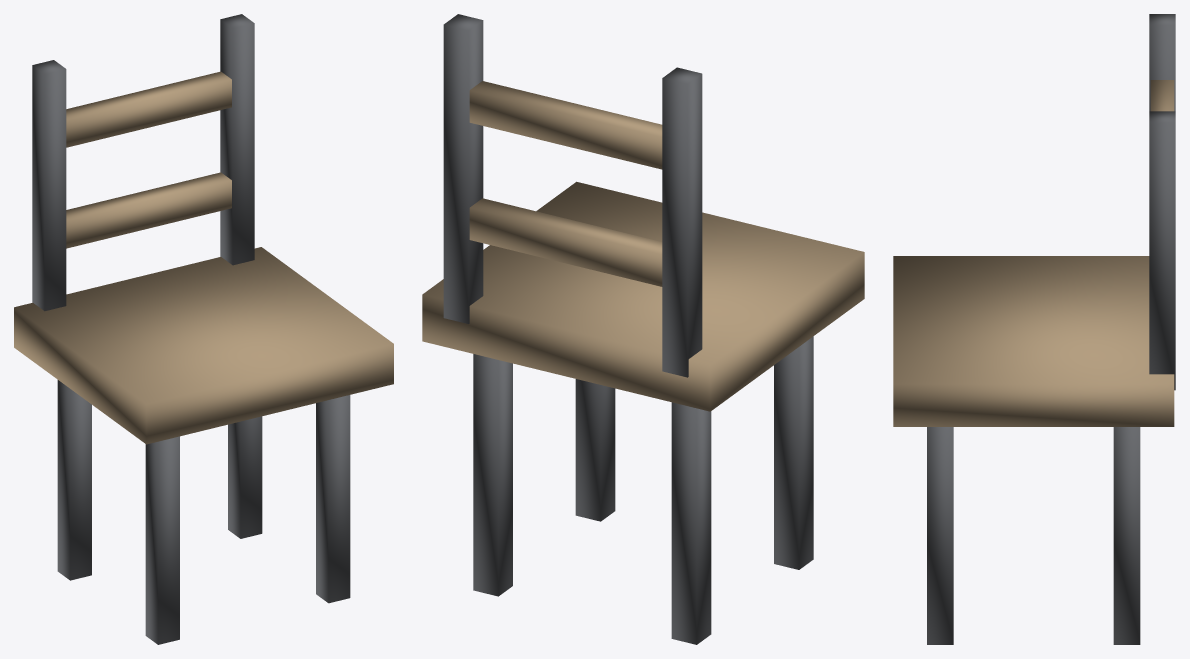
File: dining_chair.glb
3 views of the same model, side by side, from view 1: azimuth 30°, elevation 25°; view 2: azimuth 150°, elevation 25°; view 3: azimuth 270°, elevation 25° (orthographic). The views are drawn at different scales.
Visible parts, largest first — view 1: world; view 2: world; view 3: world.
Boxes of the visible parts, x1=… form: world: x1=14, y1=14, x2=393, y2=644; world: x1=422, y1=14, x2=864, y2=644; world: x1=893, y1=14, x2=1175, y2=644.
Bounding box in the file's own units: 0.5137 × 0.9841 × 0.4785.
